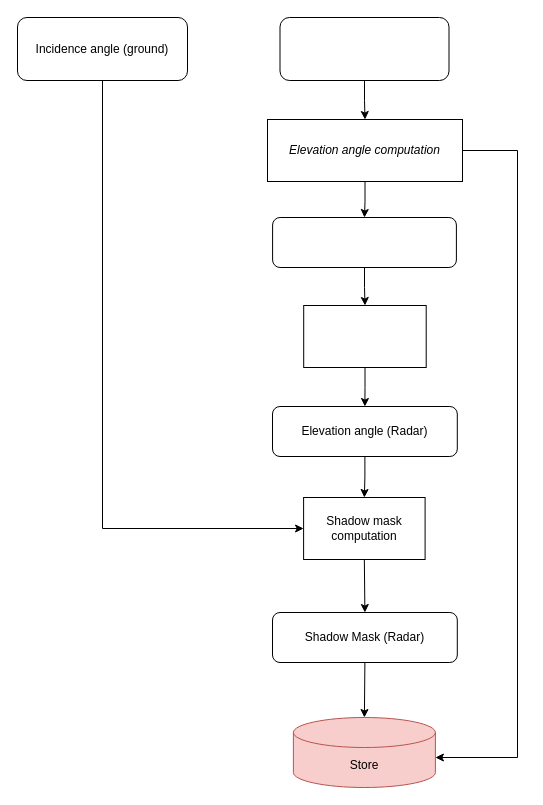
Image size: 543x805. Some labels were removed from this diagram. Here are the shapes that lost their labels. From the top down, the box of each, then its label:
(279, 16, 449, 80): Reference Geo2Radar Association Matrix ( G2R_AM ref )
(272, 216, 456, 268): Elevation angle (ground)
(303, 304, 426, 368): griddata
